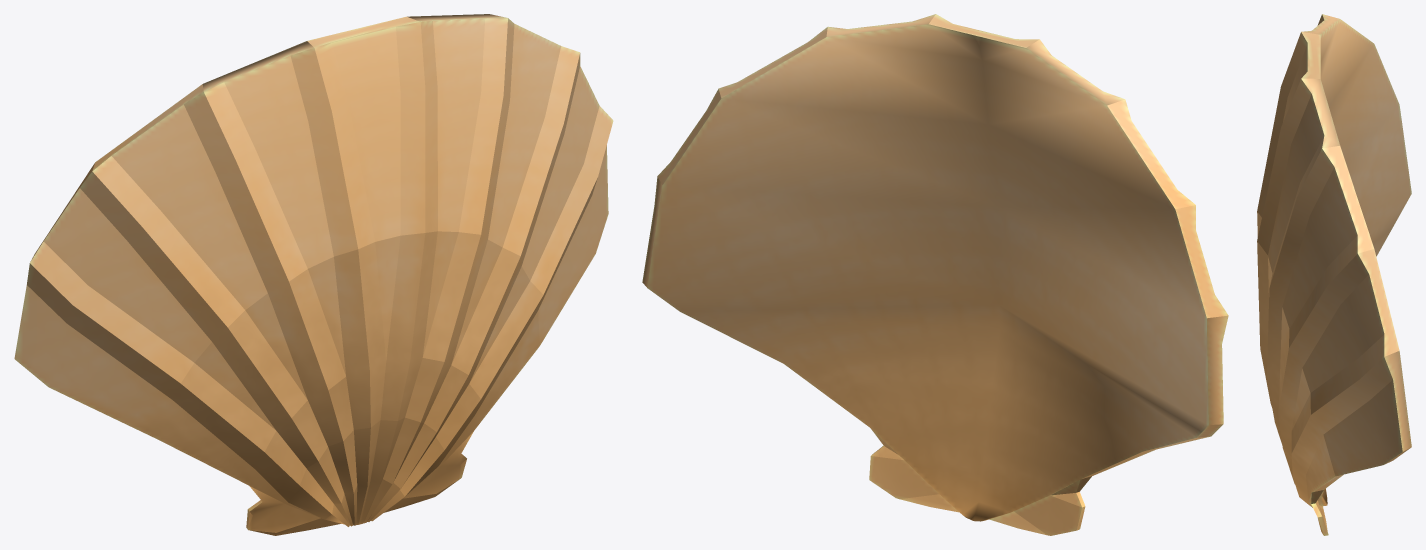
The model's file is Conchiglia_Dorata.FBX.
3 views of the same model, side by side, from view 1: azimuth 30°, elevation 25°; view 2: azimuth 150°, elevation 25°; view 3: azimuth 270°, elevation 25° (orthographic). The views are drawn at different scales.
Parts seen in each view (by area): view 1: Cylinder004; view 2: Cylinder004; view 3: Cylinder004.
Boxes of the visible parts, x1,y1,x2,y2 form: Cylinder004: (14, 14, 613, 535); Cylinder004: (642, 14, 1228, 535); Cylinder004: (1257, 14, 1411, 535).
Size of the model in its own units: 129 by 103 by 32.21.
